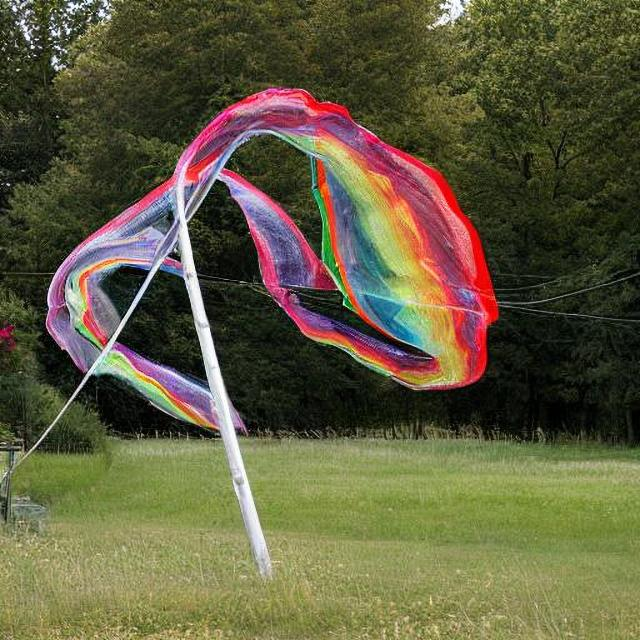floating object: (43, 85, 493, 442)
